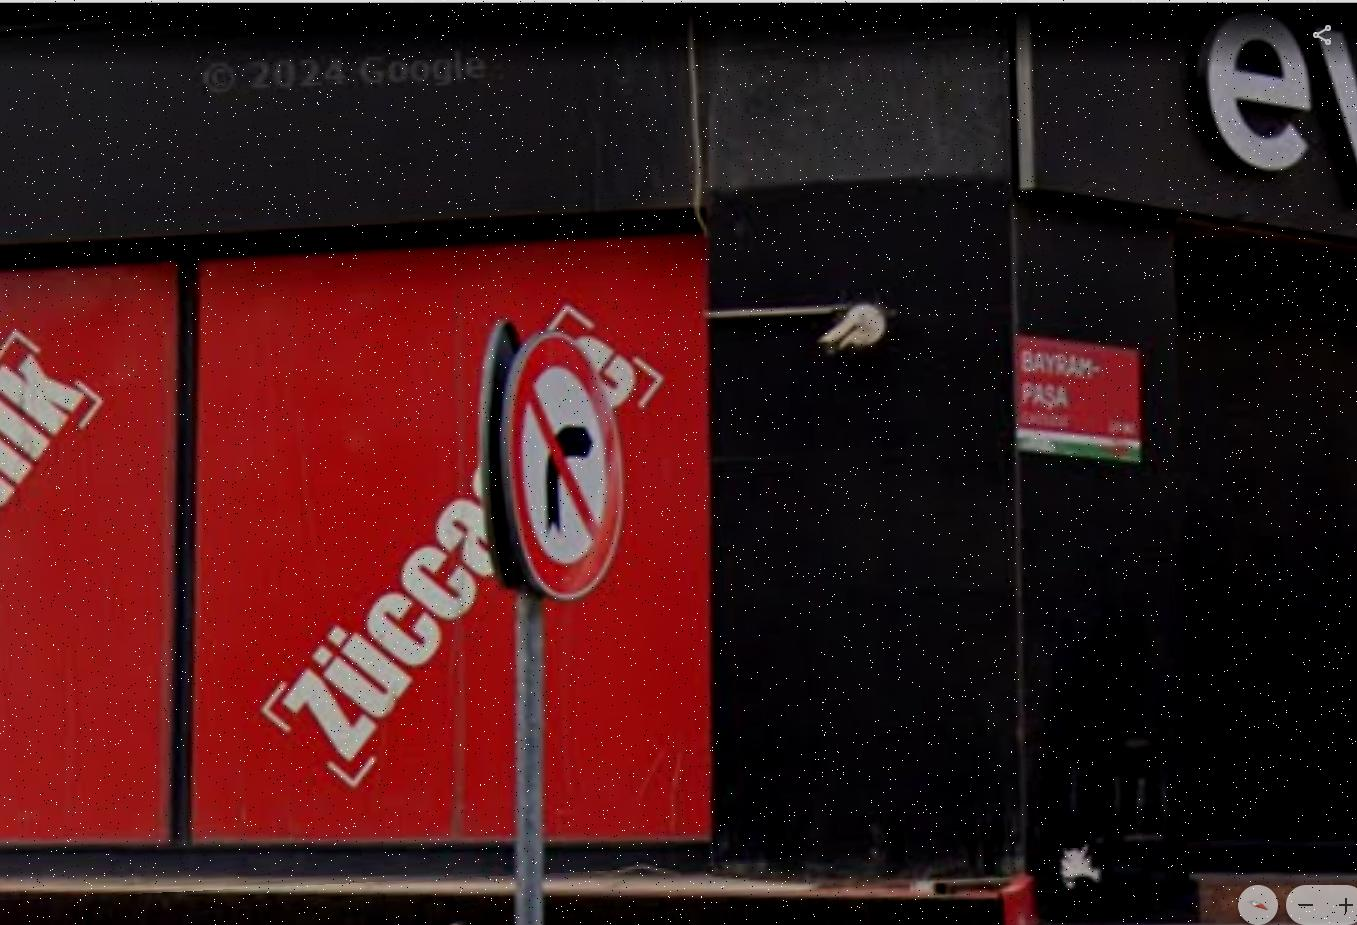rightturnsareforbidden: (505, 332, 630, 614)
